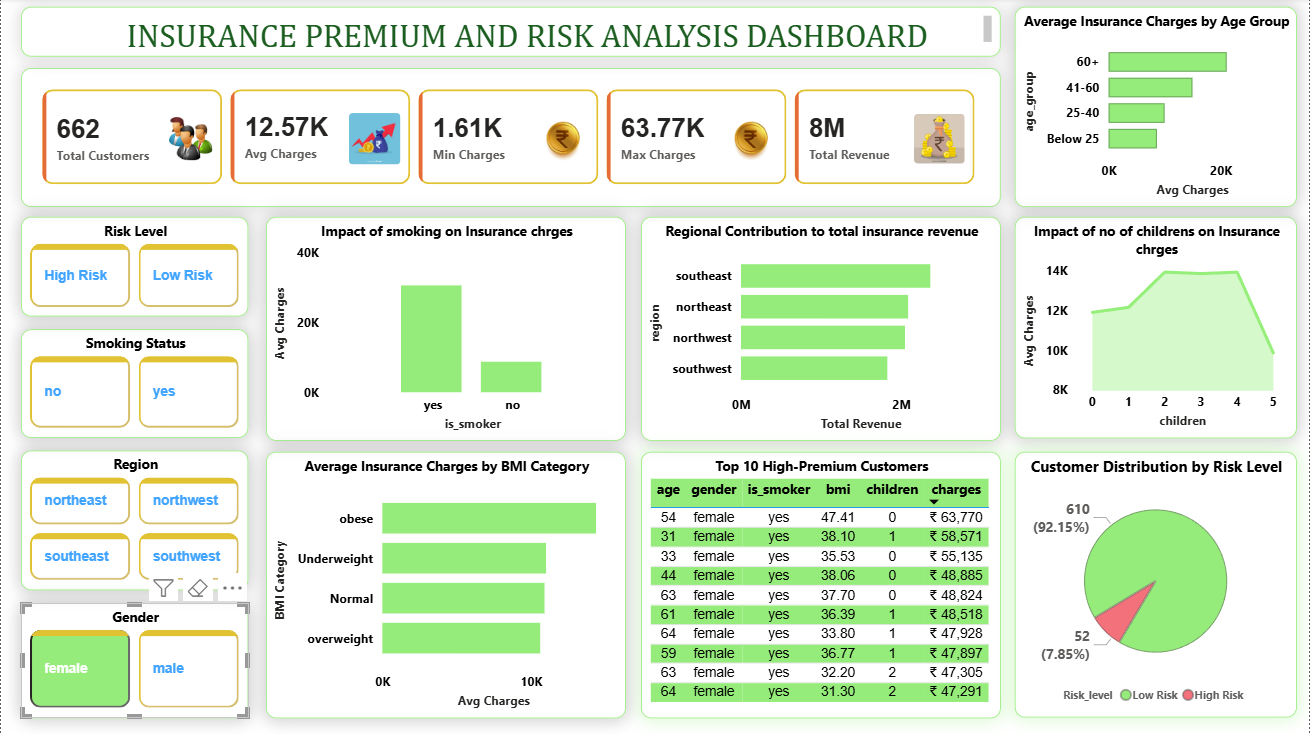

This screenshot's page, from the dashboard's own definition file:
{"tool":"powerbi","page":{"name":"Page 1","canvas":[1280,720],"ordinal":0},"visuals":[{"type":"cardVisual","fields":{"Data":["insurance_analysis_cleaned.Total Customers","insurance_analysis_cleaned.Avg Charges","insurance_analysis_cleaned.Min Charges","insurance_analysis_cleaned.Max Charges","insurance_analysis_cleaned.Total Revenue"]},"box":[19.6,68.5,958.7,135.7],"z":0},{"type":"advancedSlicerVisual","title":"Region","fields":{"Values":["insurance_analysis_cleaned.region"]},"box":[19.6,442.7,222.6,137],"z":1000},{"type":"advancedSlicerVisual","title":"Smoking Status","fields":{"Values":["insurance_analysis_cleaned.is_smoker"]},"box":[19.6,324.1,222.6,106.4],"z":2000},{"type":"advancedSlicerVisual","title":"Risk Level","fields":{"Values":["insurance_analysis_cleaned.risk_level"]},"box":[19.6,214,222.6,97.8],"z":3000},{"type":"advancedSlicerVisual","title":"Gender","fields":{"Values":["insurance_analysis_cleaned.gender"]},"box":[19.6,591.9,222.6,112.5],"z":4000},{"type":"columnChart","title":"Impact of smoking on Insurance chrges","fields":{"Category":["insurance_analysis_cleaned.is_smoker"],"Y":["insurance_analysis_cleaned.Avg Charges"]},"box":[259.2,214,352.2,218.9],"z":5000},{"type":"barChart","title":"Regional Contribution to total insurance revenue","fields":{"Category":["insurance_analysis_cleaned.region"],"Y":["insurance_analysis_cleaned.Total Revenue"]},"box":[626.1,214,352.2,218.9],"z":6000},{"type":"areaChart","title":"Impact of no of childrens on Insurance chrges","fields":{"Y":["insurance_analysis_cleaned.Avg Charges"],"Category":["insurance_analysis_cleaned.children"]},"box":[991.7,214,276.4,216.4],"z":7000},{"type":"tableEx","title":"Top 10 High-Premium Customers","fields":{"Values":["insurance_analysis_cleaned.age","insurance_analysis_cleaned.gender","insurance_analysis_cleaned.is_smoker","insurance_analysis_cleaned.bmi","insurance_analysis_cleaned.children","insurance_analysis_cleaned.charges"]},"box":[626.1,443.9,352.2,260.5],"z":8000},{"type":"barChart","title":"Average Insurance Charges by BMI Category","fields":{"Y":["insurance_analysis_cleaned.Avg Charges"],"Category":["insurance_analysis_cleaned.bmi_category"]},"box":[259.2,443.9,352.2,260.5],"z":9000},{"type":"pieChart","title":"Customer Distribution by Risk Level","fields":{"Category":["insurance_analysis_cleaned.risk_level"],"Y":["CountNonNull(insurance_analysis_cleaned.customerid)"]},"box":[992,444,276,260],"z":10000},{"type":"barChart","title":"Average Insurance Charges by Age Group","fields":{"Y":["insurance_analysis_cleaned.Avg Charges"],"Category":["insurance_analysis_cleaned.age_group"]},"box":[991.7,8.6,276.4,195.7],"z":11000},{"type":"textbox","box":[19.6,8.6,958.7,48.9],"z":12000}]}

Visuals, with their boxes in screenshot pixels (x1, y1, x2, y2), scaled from the page's 1280x720 canvas onto the 1310x734 screenshot:
cardVisual - insurance_analysis_cleaned.Total Customers x insurance_analysis_cleaned.Avg Charges: l=20, t=70, r=1001, b=208
"Region" advancedSlicerVisual: l=20, t=451, r=248, b=591
"Smoking Status" advancedSlicerVisual: l=20, t=330, r=248, b=439
"Risk Level" advancedSlicerVisual: l=20, t=218, r=248, b=318
"Gender" advancedSlicerVisual: l=20, t=603, r=248, b=718
"Impact of smoking on Insurance chrges" columnChart: l=265, t=218, r=626, b=441
"Regional Contribution to total insurance revenue" barChart: l=641, t=218, r=1001, b=441
"Impact of no of childrens on Insurance chrges" areaChart: l=1015, t=218, r=1298, b=439
"Top 10 High-Premium Customers" tableEx: l=641, t=453, r=1001, b=718
"Average Insurance Charges by BMI Category" barChart: l=265, t=453, r=626, b=718
"Customer Distribution by Risk Level" pieChart: l=1015, t=453, r=1298, b=718
"Average Insurance Charges by Age Group" barChart: l=1015, t=9, r=1298, b=208
textbox: l=20, t=9, r=1001, b=59
